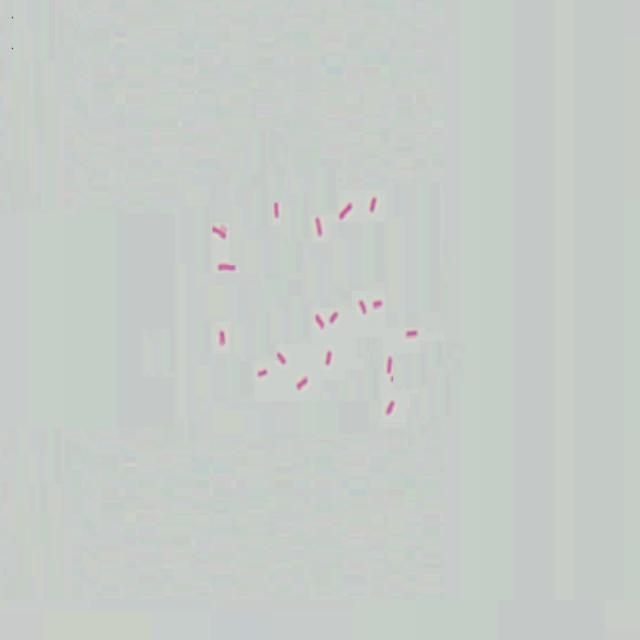E-coli: (211, 219, 229, 247), (335, 196, 353, 223), (309, 309, 327, 335), (216, 261, 240, 280), (311, 211, 325, 240), (271, 197, 283, 227), (384, 397, 398, 422), (254, 362, 271, 382), (382, 353, 396, 377), (403, 326, 422, 343), (294, 375, 311, 394), (215, 326, 229, 348), (368, 189, 379, 217), (329, 304, 341, 329), (277, 348, 290, 371), (323, 348, 335, 372), (372, 295, 386, 312), (358, 294, 368, 316)
